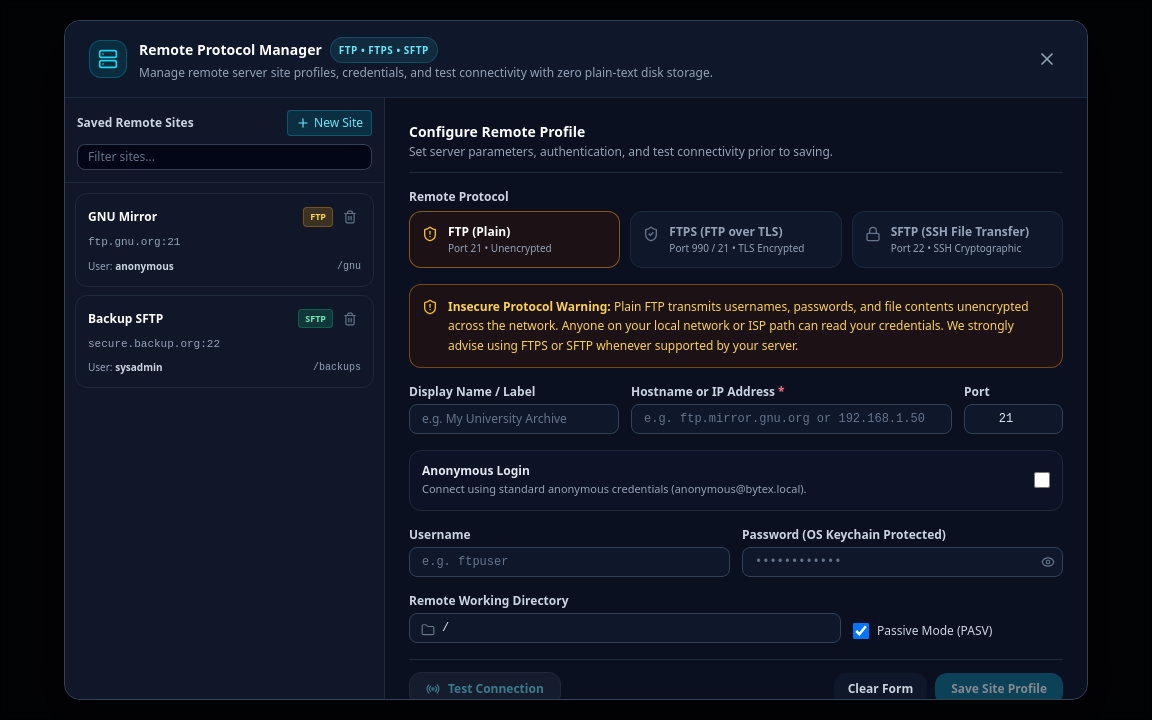
Test: RemoteProtocolModal Component › runs connection test and displays structured results upon clicking Test Connection
In the field with placeholder "e.g. ftp.mirror.gnu.org or 192.168.1.50": (792, 419) left=631, top=404, right=952, bottom=434, type "ftp.testserver.org"
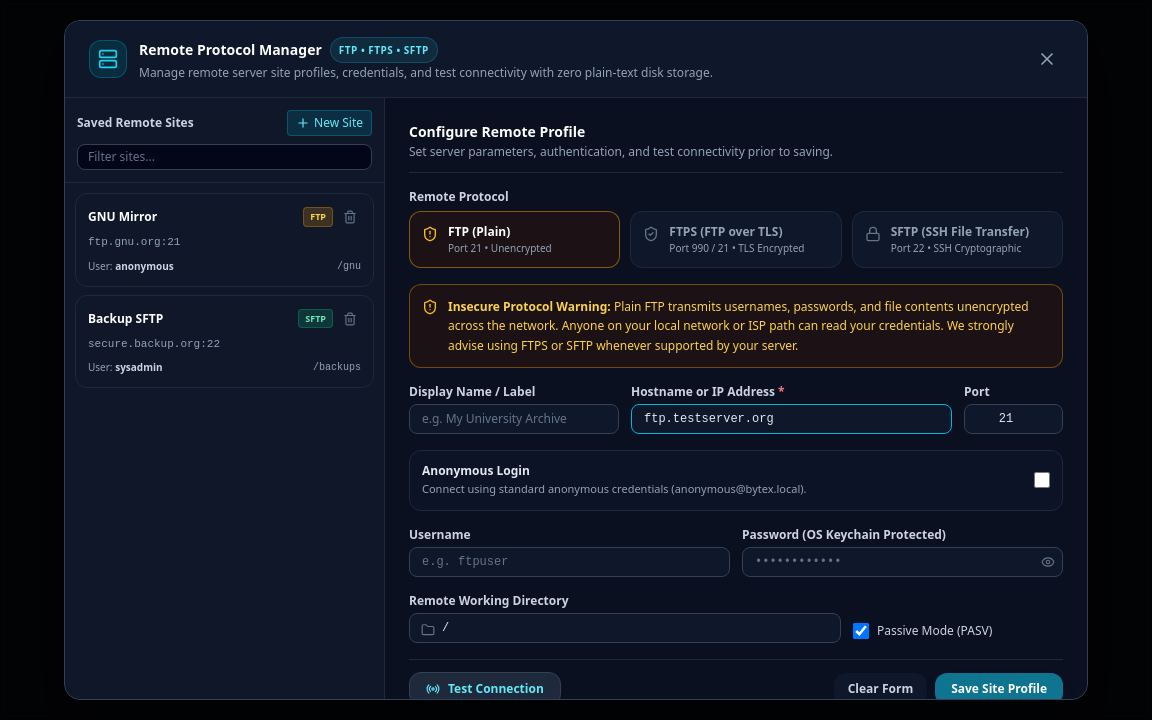
Click the button "Test Connection": (485, 688) left=409, top=672, right=561, bottom=706
(page scrolled)
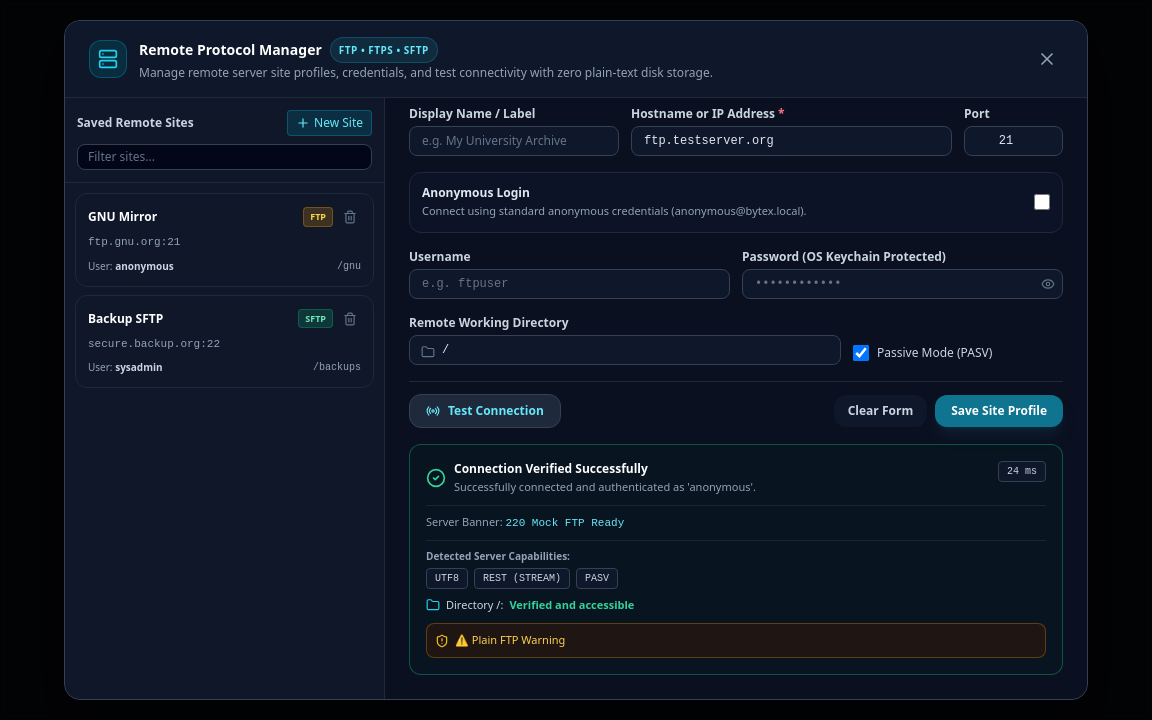
Result: the text "Connection Verified Successfully" is shown at left=454, top=460, right=648, bottom=476
Result: the text "220 Mock FTP Ready" is shown at left=506, top=517, right=624, bottom=529
Result: the text "24 ms" is shown at left=998, top=460, right=1046, bottom=482
